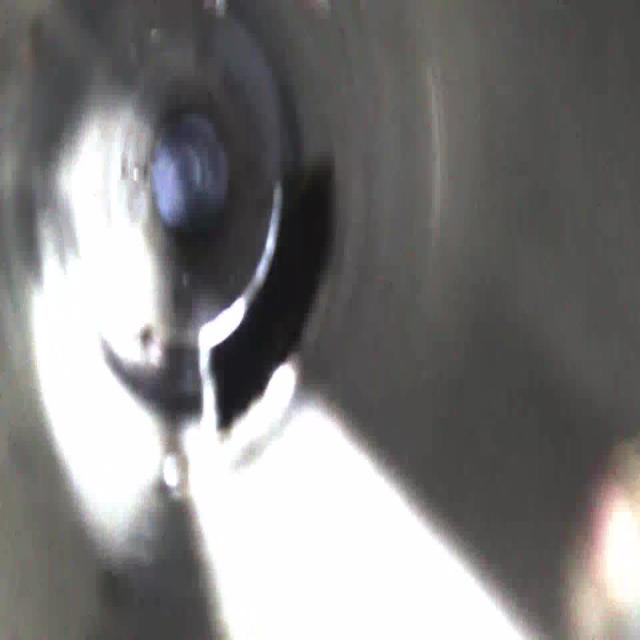hole: (199, 134, 350, 459)
